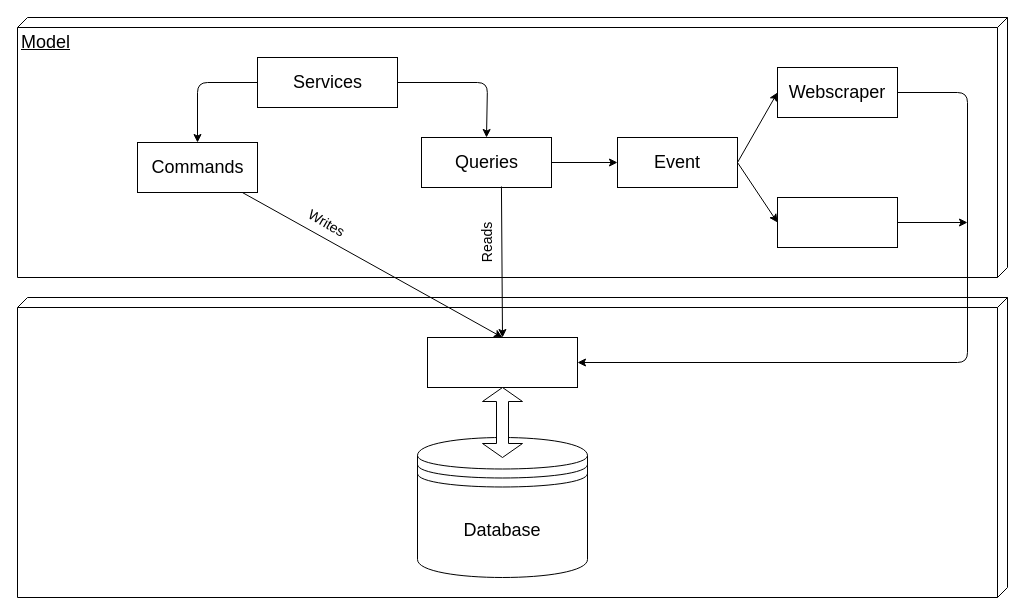
The diagram is 1025 pixels wide and 615 high, and some of its shapes have lost their labels. The shapes that lost their labels are listed below. From the top down, each one's box as (x1, y1, x2, y2) in pixels, then its label:
(776, 196, 898, 248): AI
(426, 336, 578, 388): Repositories
(16, 296, 1008, 598): Data Access Layer
